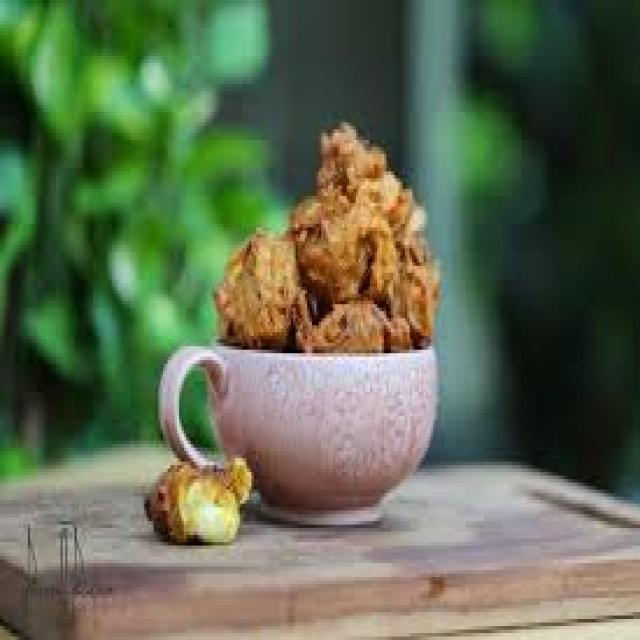BAJI: (214, 122, 438, 346)
